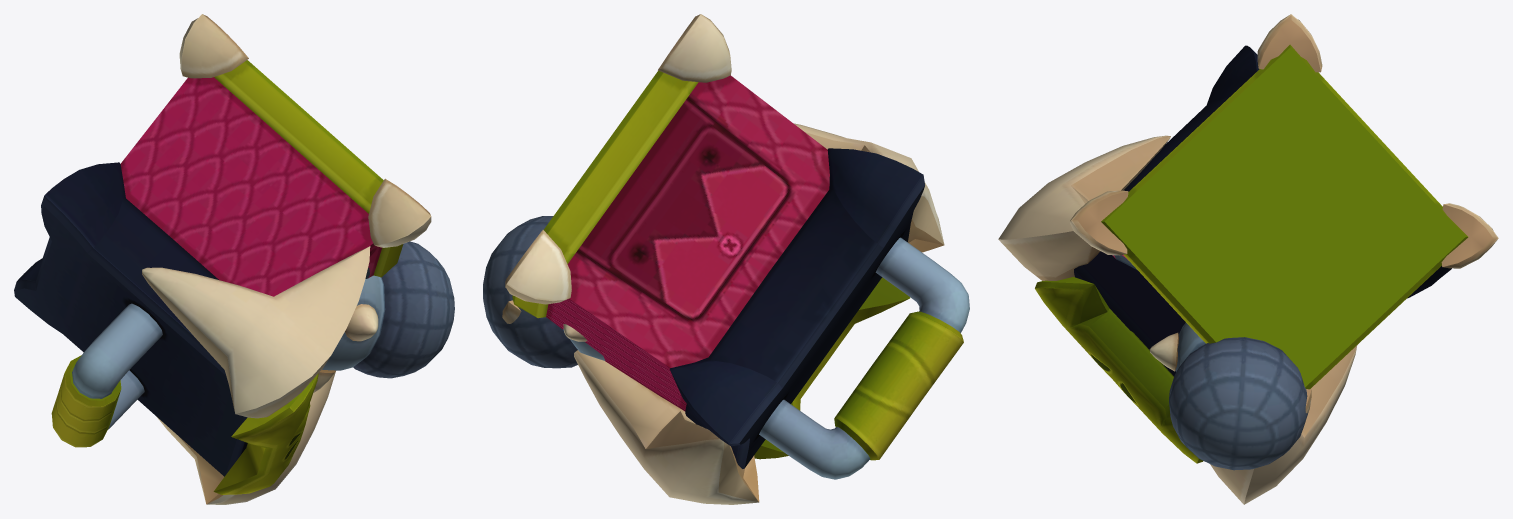
The model's file is damian_weapon.glb.
3 renders of one model, left to right at view 1: azimuth 30°, elevation 25°; view 2: azimuth 150°, elevation 25°; view 3: azimuth 270°, elevation 25°, orthographic. The views are drawn at different scales.
Parts seen in each view (by area): view 1: HeroAttachment_Speaker, HeroAttachment_Microphone; view 2: HeroAttachment_Speaker, HeroAttachment_Microphone; view 3: HeroAttachment_Speaker, HeroAttachment_Microphone.
Boxes of the visible parts, left/top/right/bottom form: HeroAttachment_Speaker: left=14, top=14, right=431, bottom=504; HeroAttachment_Microphone: left=313, top=241, right=454, bottom=392; HeroAttachment_Speaker: left=502, top=14, right=969, bottom=504; HeroAttachment_Microphone: left=483, top=216, right=605, bottom=368; HeroAttachment_Speaker: left=998, top=14, right=1498, bottom=504; HeroAttachment_Microphone: left=1149, top=323, right=1308, bottom=470.
Size of the model in its own units: 1.16 by 1.3 by 1.25.
Materials: 2 (2 with a texture image).
